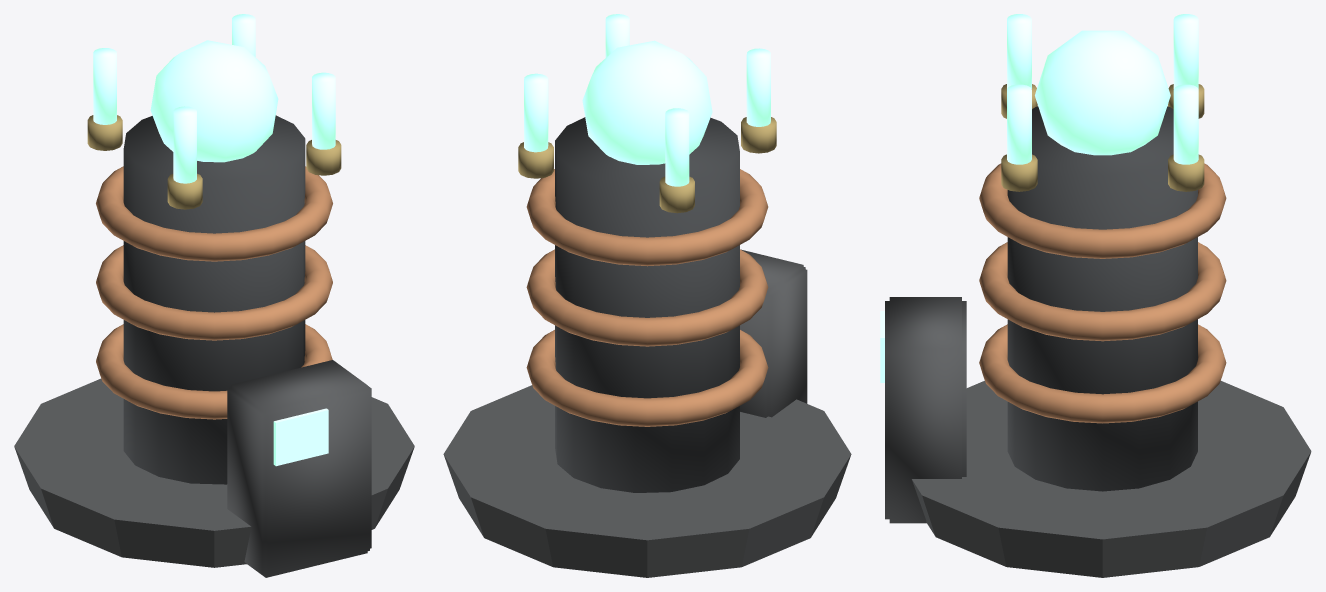
Rendered from device_k4.glb.
The picture shows the model from 3 angles, left to right: view 1: azimuth 30°, elevation 25°; view 2: azimuth 150°, elevation 25°; view 3: azimuth 270°, elevation 25°; orthographic projection. The views are drawn at different scales.
Visible parts, largest first — view 1: CorePillar, SteelPlinth, ConsoleBox, ResonatorCore, CopperCoil_1.05, CopperCoil_1.45, CopperCoil_0.65, Oscilloscope, VacuumTube_2, VacuumTube_3, VacuumTube_1, TubeSocket_3 (+3 smaller); view 2: CorePillar, SteelPlinth, ResonatorCore, CopperCoil_1.05, CopperCoil_0.65, CopperCoil_1.45, ConsoleBox, VacuumTube_1, VacuumTube_2, VacuumTube_0, TubeSocket_1, TubeSocket_0 (+2 smaller); view 3: CorePillar, SteelPlinth, ConsoleBox, ResonatorCore, CopperCoil_0.65, CopperCoil_1.05, CopperCoil_1.45, VacuumTube_0, VacuumTube_3, VacuumTube_1, VacuumTube_2, TubeSocket_0 (+1 smaller).
Part boxes in pixels (bbox=[...]): CorePillar: bbox=[123, 115, 305, 484]; SteelPlinth: bbox=[14, 378, 414, 567]; ConsoleBox: bbox=[227, 360, 371, 577]; ResonatorCore: bbox=[150, 40, 278, 162]; CopperCoil_1.05: bbox=[96, 245, 332, 340]; CopperCoil_1.45: bbox=[96, 166, 332, 261]; CopperCoil_0.65: bbox=[96, 324, 332, 419]; Oscilloscope: bbox=[273, 408, 328, 466]; VacuumTube_2: bbox=[173, 106, 196, 183]; VacuumTube_3: bbox=[312, 72, 335, 149]; VacuumTube_1: bbox=[93, 48, 116, 124]; TubeSocket_3: bbox=[306, 140, 341, 175]; CorePillar: bbox=[555, 117, 739, 492]; SteelPlinth: bbox=[443, 385, 851, 577]; ResonatorCore: bbox=[582, 40, 712, 164]; CopperCoil_1.05: bbox=[526, 249, 768, 346]; CopperCoil_0.65: bbox=[526, 330, 768, 426]; CopperCoil_1.45: bbox=[526, 169, 768, 266]; ConsoleBox: bbox=[740, 249, 807, 417]; VacuumTube_1: bbox=[665, 108, 689, 186]; VacuumTube_2: bbox=[746, 48, 770, 126]; VacuumTube_0: bbox=[524, 73, 548, 152]; TubeSocket_1: bbox=[659, 176, 694, 213]; TubeSocket_0: bbox=[518, 142, 553, 178]; CorePillar: bbox=[1007, 106, 1197, 491]; SteelPlinth: bbox=[912, 380, 1311, 577]; ConsoleBox: bbox=[885, 297, 966, 523]; ResonatorCore: bbox=[1035, 30, 1170, 155]; CopperCoil_0.65: bbox=[979, 324, 1226, 423]; CopperCoil_1.05: bbox=[979, 242, 1226, 341]; CopperCoil_1.45: bbox=[979, 163, 1226, 258]; VacuumTube_0: bbox=[1173, 84, 1198, 164]; VacuumTube_3: bbox=[1007, 84, 1031, 164]; VacuumTube_1: bbox=[1173, 14, 1198, 88]; VacuumTube_2: bbox=[1007, 14, 1031, 88]; TubeSocket_0: bbox=[1168, 154, 1204, 191].
Size of the model in its own units: 1.84 by 2.26 by 1.9.
